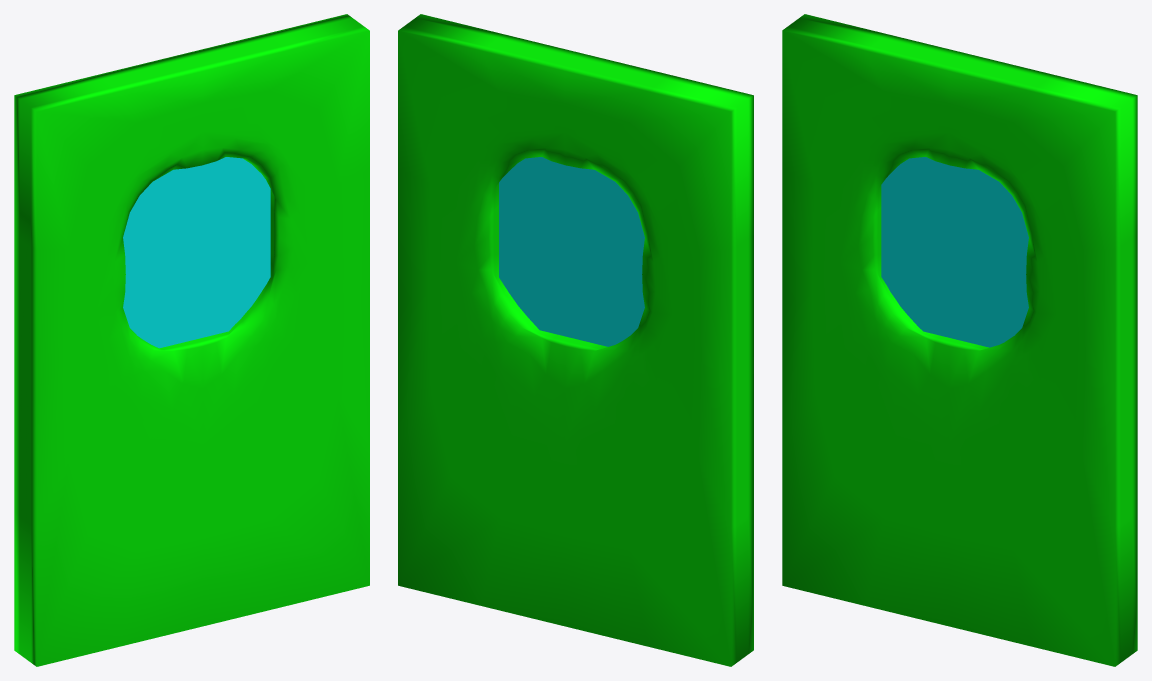
The model's file is porte.fbx.
3 views of the same model, side by side, from view 1: azimuth 30°, elevation 25°; view 2: azimuth 150°, elevation 25°; view 3: azimuth 330°, elevation 25° (orthographic).
Parts seen in each view (by area): view 1: pPlane2, pCube171; view 2: pPlane2, pCube171; view 3: pPlane2, pCube171.
Part boxes in pixels (bbox=[...]): pPlane2: bbox=[14, 14, 369, 666]; pCube171: bbox=[123, 157, 270, 348]; pPlane2: bbox=[398, 14, 753, 666]; pCube171: bbox=[499, 157, 644, 346]; pPlane2: bbox=[782, 14, 1137, 666]; pCube171: bbox=[881, 157, 1028, 347].
Size of the model in its own units: 3.02 by 4.82 by 0.3559.
